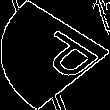P_SE: (11, 24, 99, 86)
